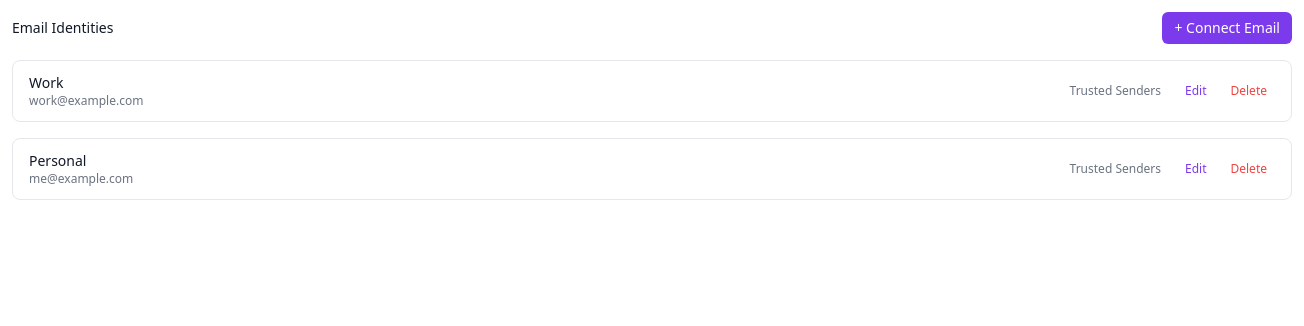
Scenario: AccountsTab › toggles trusted senders panel on button click
This screenshot has width=1304, height=326.
Step 1. Click the button titled "Manage senders whose remote images are always loaded" in the row of "work@example.com" → (1115, 91), box [1062,79,1169,103]
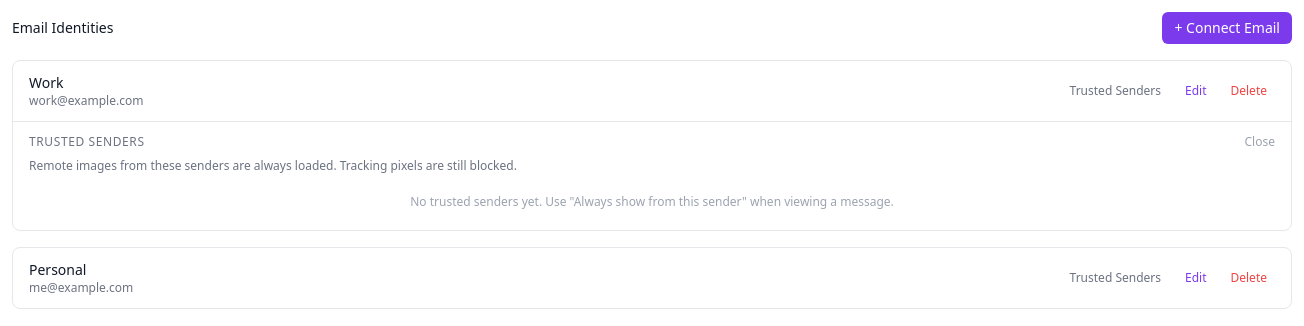
Check: the button with aria-label "close trusted senders" is shown, box [1244,134,1275,150]
